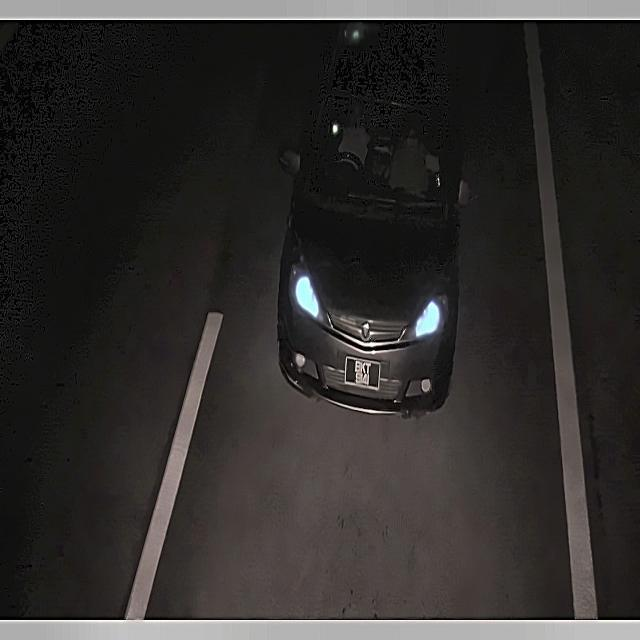car: (340, 346, 386, 395)
